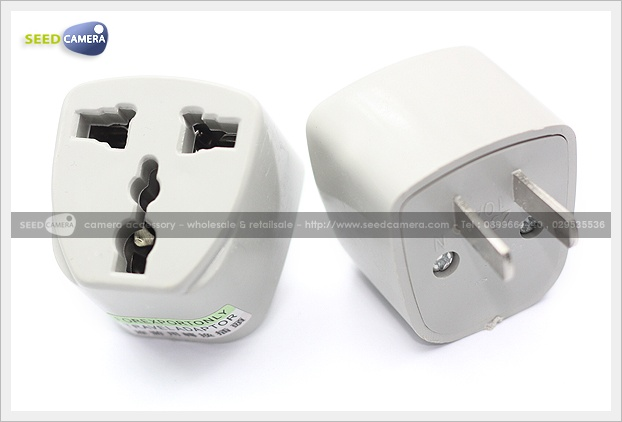Three_eye_plug: (304, 39, 586, 361), (46, 69, 308, 345)
